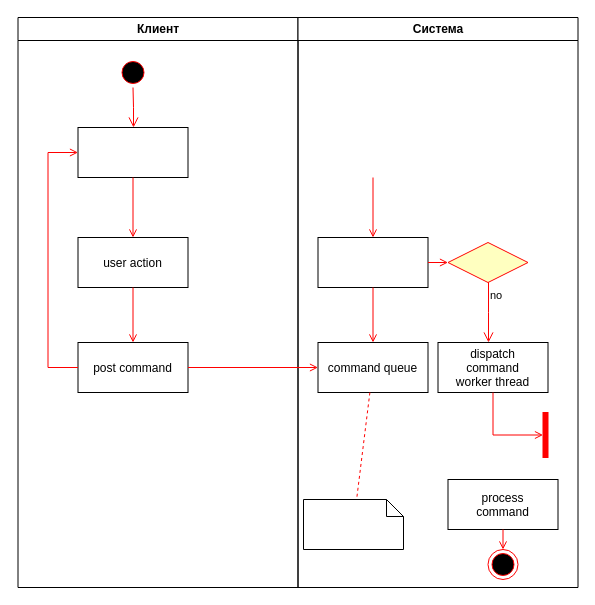
This 595x605 diagram has some shape labels left out. Here are the shapes that lost their labels. From the top down, the centre of each, then its label:
point (132, 152): Добавить бота
point (372, 262): check for new commands
point (487, 262): queue empty
point (353, 524): critical section
